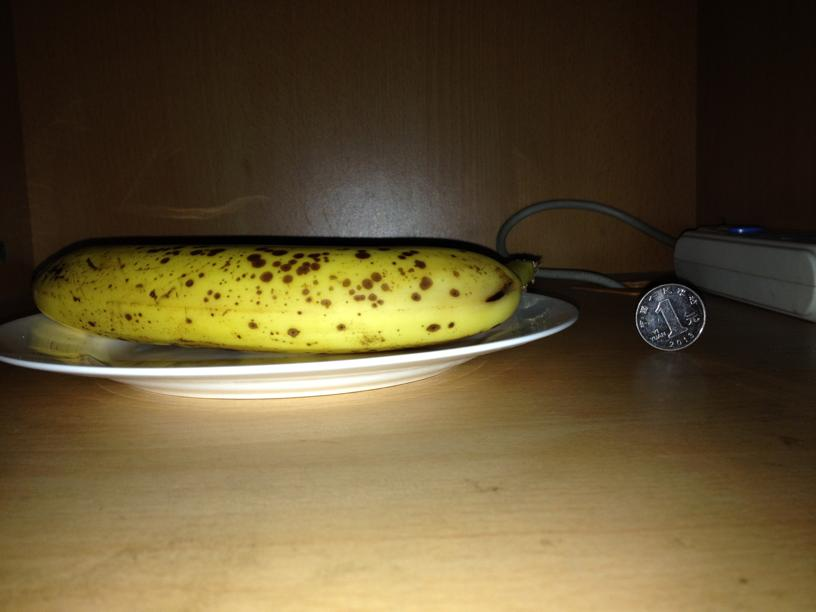banana: (29, 241, 528, 351)
coin: (634, 281, 706, 352)
